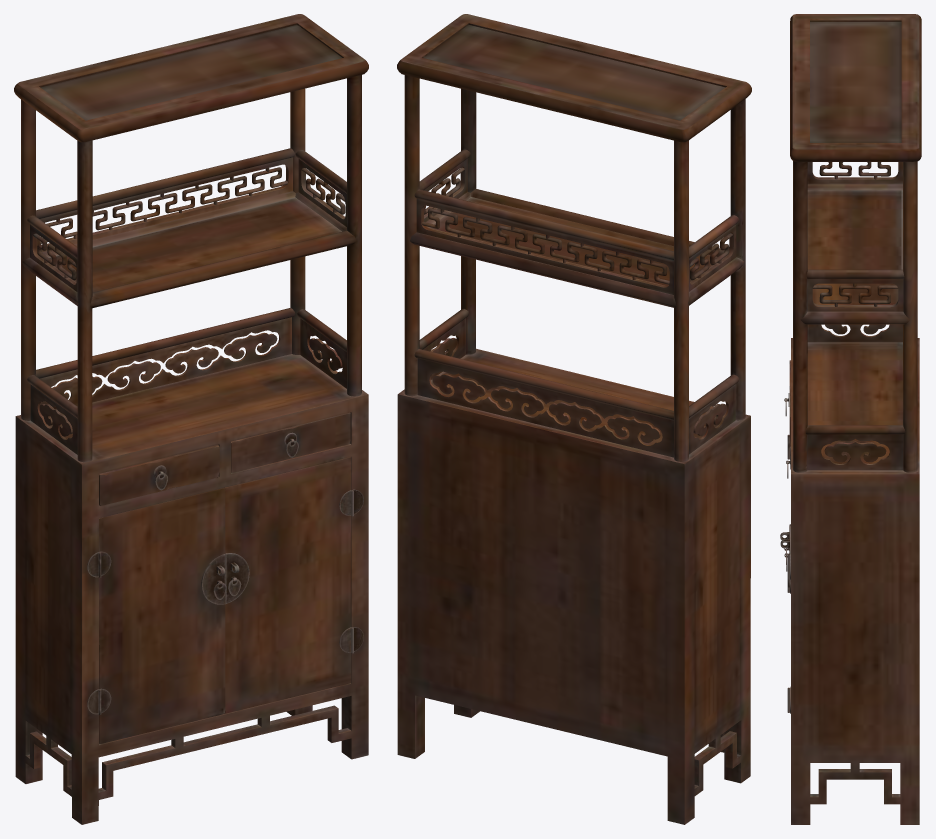
3 views of the same model, side by side, from view 1: azimuth 30°, elevation 25°; view 2: azimuth 150°, elevation 25°; view 3: azimuth 270°, elevation 25° (orthographic). The views are drawn at different scales.
Visible parts, largest first — view 1: chinese_cabinet; view 2: chinese_cabinet; view 3: chinese_cabinet.
Part boxes in pixels (<box>): chinese_cabinet: <box>14,14,368,824</box>; chinese_cabinet: <box>397,14,751,824</box>; chinese_cabinet: <box>780,14,921,824</box>.
Size of the model in its own units: 1.26 by 2.87 by 0.5452.
Materials: 1 (1 with a texture image).
